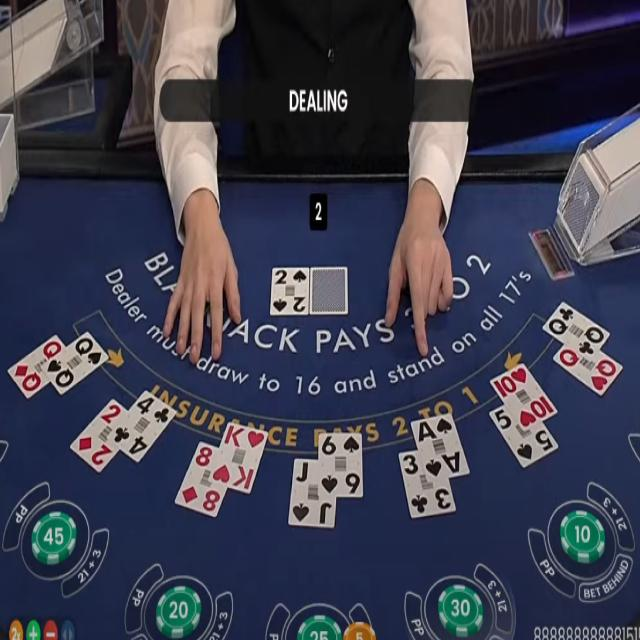Card-10: (490, 361, 558, 433)
Card-2: (70, 397, 127, 472), (270, 266, 309, 315)
Card-3: (398, 450, 455, 518)
Card-4: (109, 388, 176, 463)
Card-5: (488, 405, 558, 469)
Card-6: (318, 433, 362, 498)
Card-8: (174, 440, 227, 518)
Card-A: (410, 412, 470, 482)
Card-J: (289, 458, 336, 528)
Card-K: (209, 420, 267, 495)
Card-Q: (43, 330, 108, 396), (542, 299, 610, 362), (7, 333, 65, 399), (553, 346, 623, 397)
